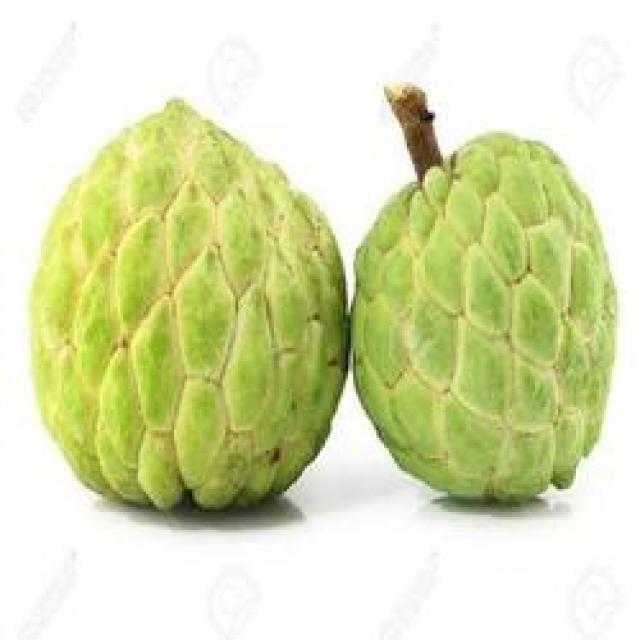apple: (18, 90, 351, 535), (350, 74, 640, 509)
